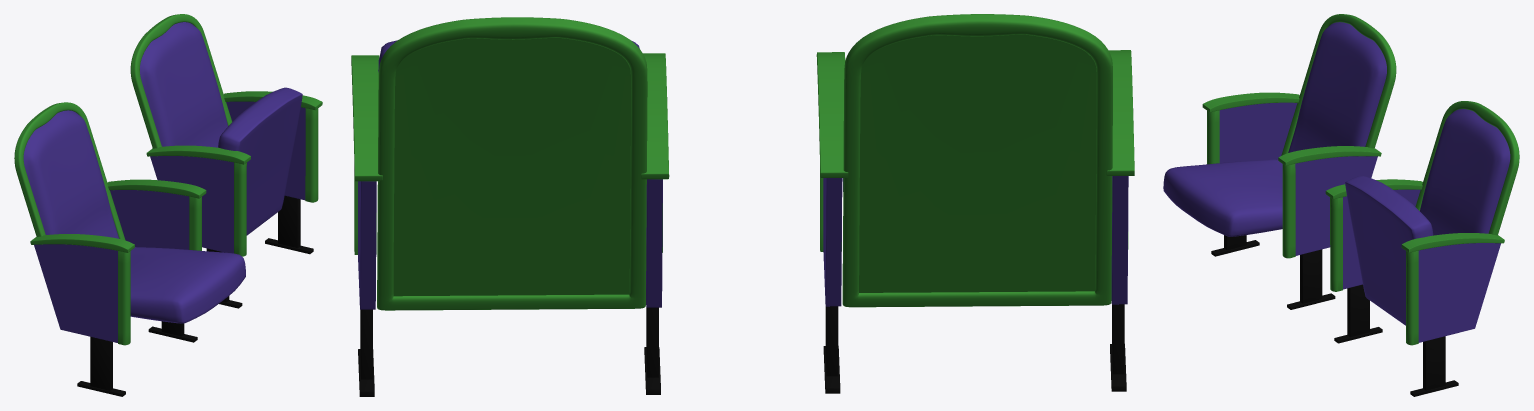
The model's file is kreslo.FBX.
3 renders of one model, left to right at view 1: azimuth 30°, elevation 25°; view 2: azimuth 150°, elevation 25°; view 3: azimuth 270°, elevation 25°, orthographic. The views are drawn at different scales.
Visible parts, largest first — view 1: Line004, Line010, Line006, Line011, Line001, Line007, Line002, Group001, Group002, Line008, Shape007, Shape001 (+9 smaller); view 2: Line003, Line009, Group001, Group002, Shape008, Shape004, Shape006, Shape002, Line002, Line008, Line007, Line001 (+4 smaller); view 3: Line004, Line010, Line006, Line011, Line008, Line002, Line001, Group001, Group002, Line007, Shape003, Shape007 (+9 smaller).
Part boxes in pixels (x1,y1,x2,y2): Line004: (23,110,119,238); Line010: (140,22,227,147); Line006: (130,247,245,323); Line011: (218,87,302,235); Line001: (34,244,117,342); Line007: (150,156,233,253); Line002: (110,190,189,249); Group001: (14,102,125,240); Group002: (130,14,232,148); Line008: (226,101,305,200); Shape007: (305,108,318,202); Shape001: (118,251,130,345); Line003: (859,34,1096,292); Line009: (393,38,630,296); Group001: (842,14,1112,307); Group002: (377,17,647,310); Shape008: (351,55,382,181); Shape004: (816,52,848,177); Shape006: (641,53,669,179); Shape002: (1106,50,1134,175); Line002: (823,178,842,306); Line008: (358,181,376,309); Line007: (646,179,662,307); Line001: (1111,176,1128,304); Line004: (1288,22,1386,152); Line010: (1420,109,1510,235); Line006: (1163,159,1282,236); Line011: (1345,175,1433,325); Line008: (1418,243,1500,342); Line002: (1295,156,1377,255); Line001: (1219,102,1297,162); Group001: (1281,14,1396,155); Group002: (1415,101,1519,235); Line007: (1343,189,1420,289); Shape003: (1282,164,1295,258); Shape007: (1406,250,1418,345).
Bounding box in the file's own units: 1449 × 908 × 1279.
